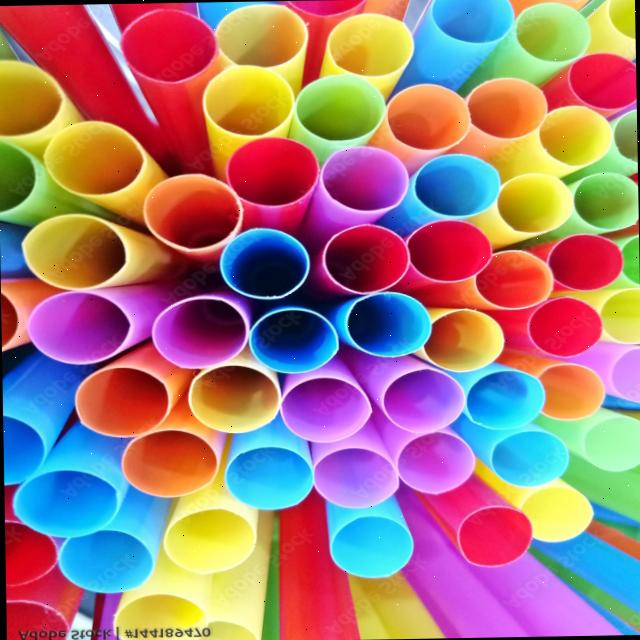plastic: (400, 488, 554, 576)
